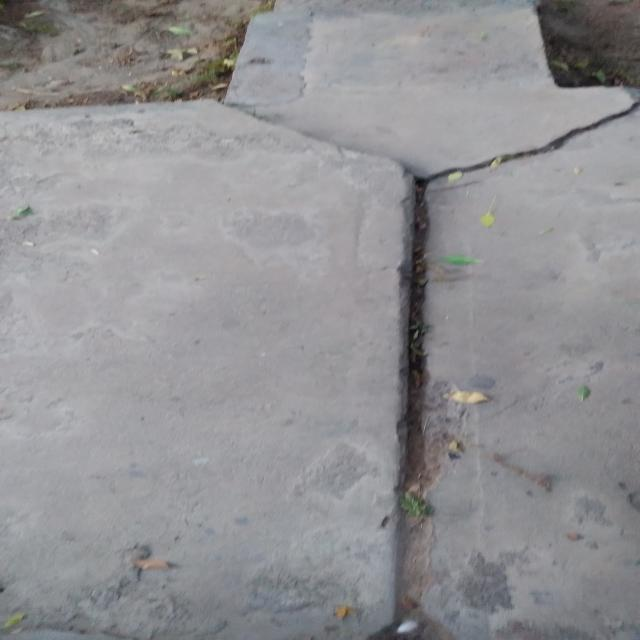hole: (357, 156, 460, 640)
